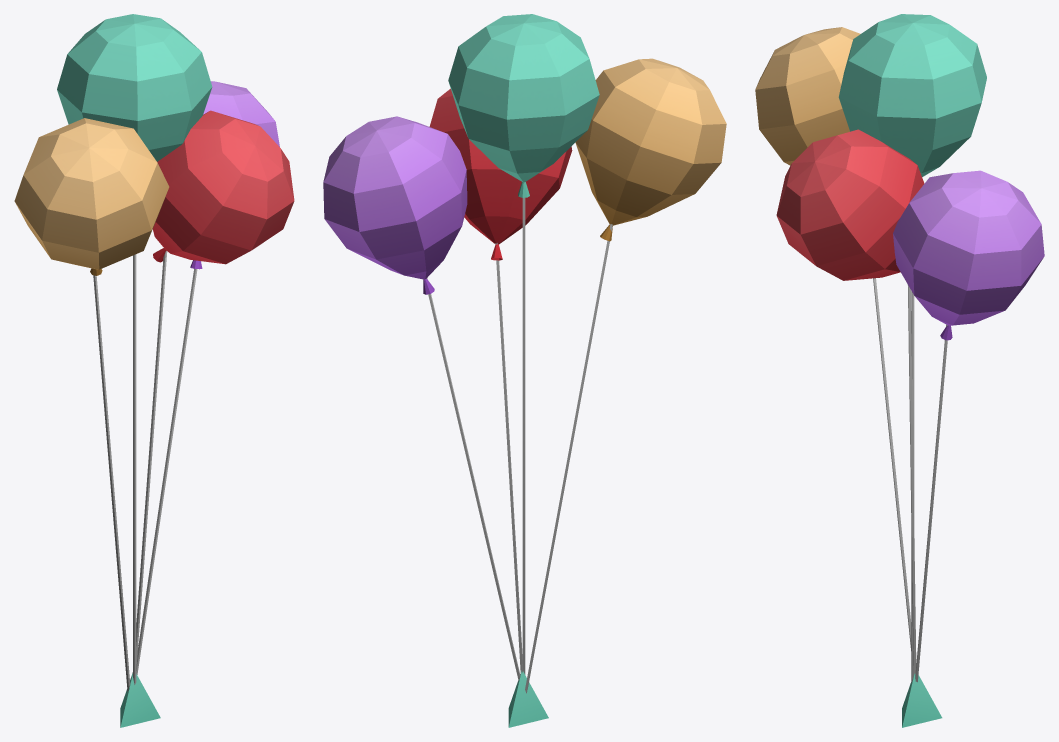
The model's file is baloons.fbx.
3 renders of one model, left to right at view 1: azimuth 30°, elevation 25°; view 2: azimuth 150°, elevation 25°; view 3: azimuth 270°, elevation 25°, orthographic.
Parts seen in each view (by area): view 1: Cone.003; view 2: Cone.003; view 3: Cone.003.
Boxes of the visible parts, left/top/right/bottom form: Cone.003: left=14, top=14, right=294, bottom=727; Cone.003: left=323, top=14, right=726, bottom=727; Cone.003: left=755, top=14, right=1044, bottom=727.
Size of the model in its own units: 101 by 215 by 81.27.
